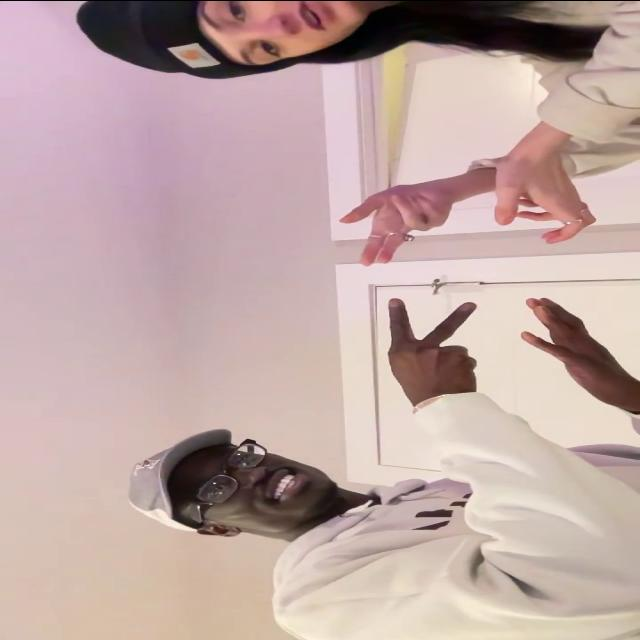Scissors: (384, 298, 479, 406)
